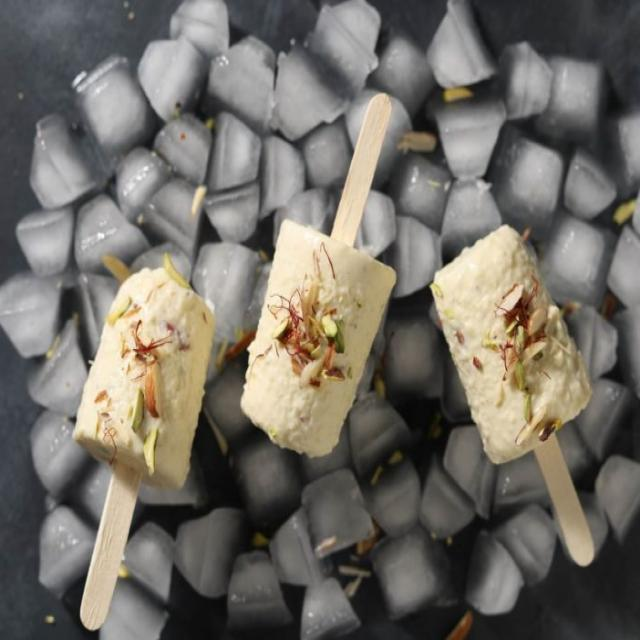kulfi: (422, 218, 603, 486), (242, 210, 398, 470), (72, 245, 218, 497)
